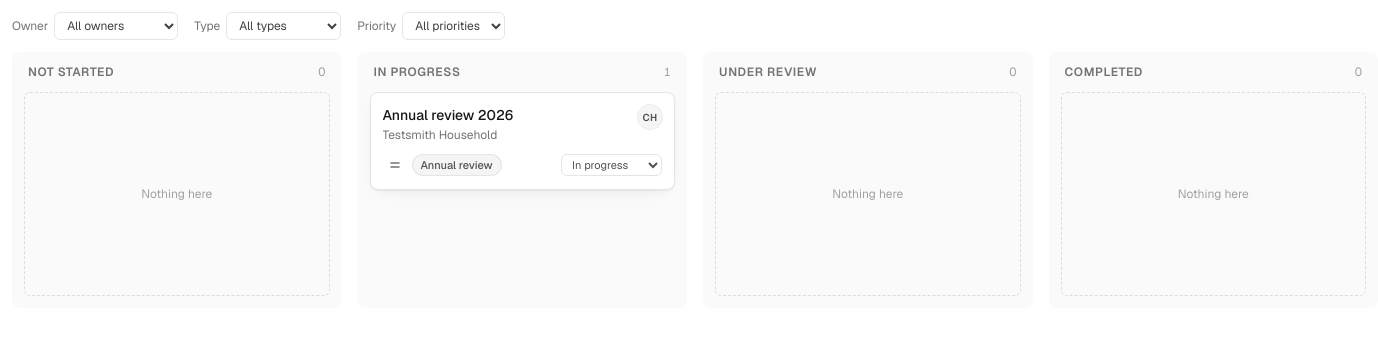
priority › choosing a level updates the glyph at once and tells the server
Click the button named "Priority: " at (394, 165), box top-left (382, 153), bottom-right (406, 177)
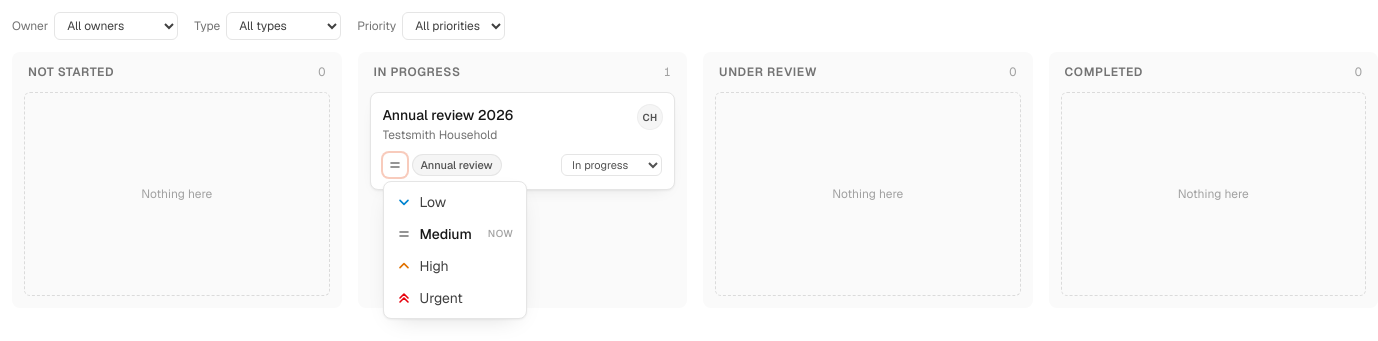
Click the menu item "Urgent" at (454, 298), box top-left (388, 282), bottom-right (522, 314)
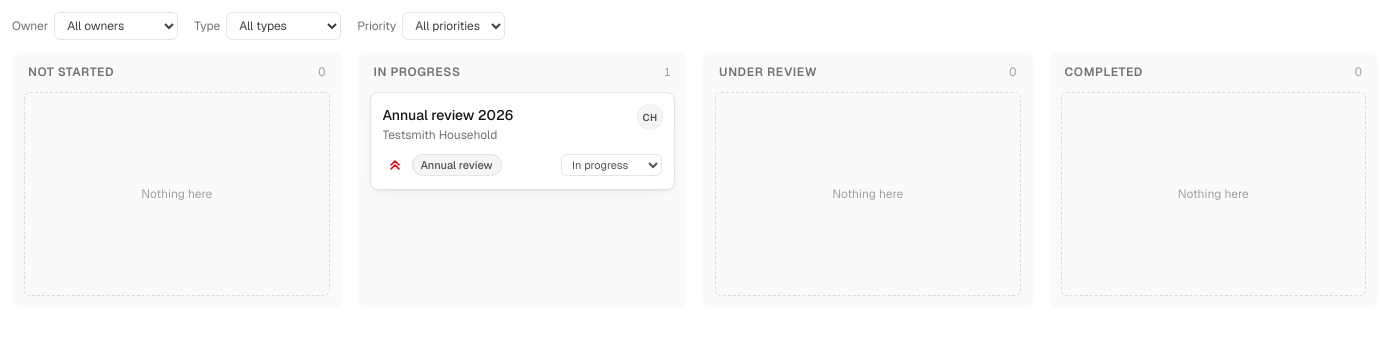
Expected: the menu is gone
